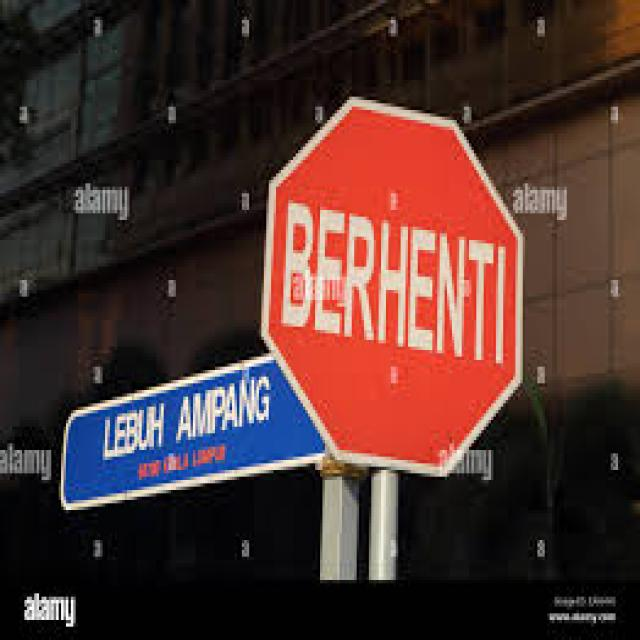stop-sign: (243, 92, 538, 516)
